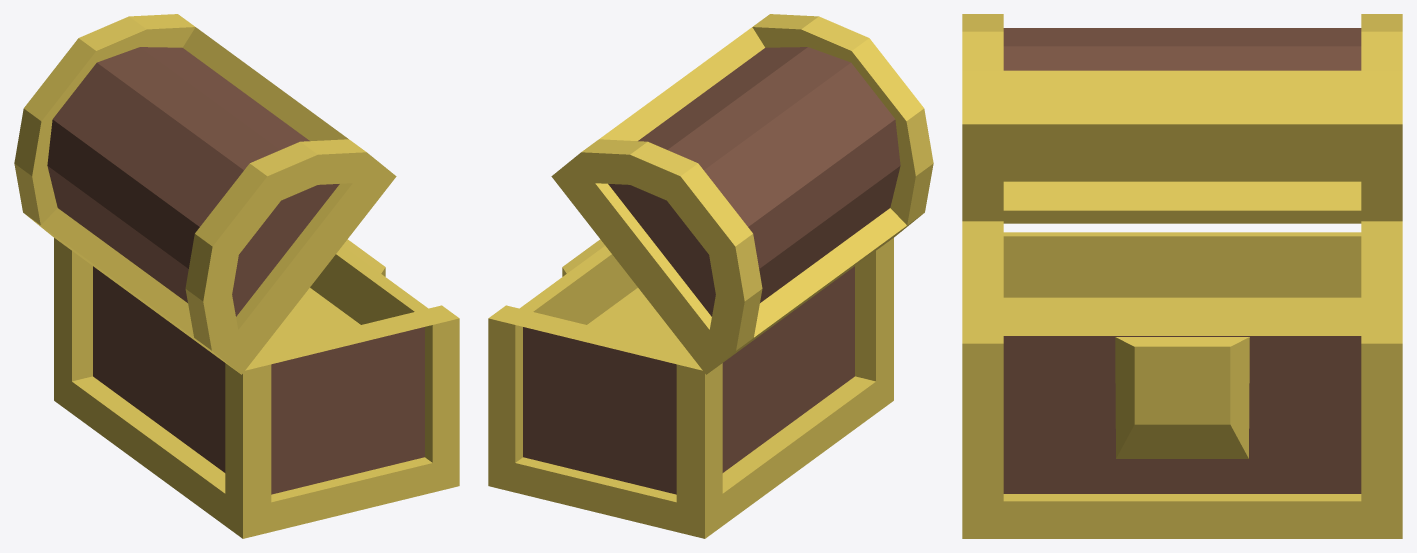
Rendered from COFRETESORO.fbx.
The picture shows the model from 3 angles, left to right: view 1: azimuth 30°, elevation 25°; view 2: azimuth 150°, elevation 25°; view 3: azimuth 270°, elevation 25°; orthographic projection. The views are drawn at different scales.
Visible parts, largest first — view 1: Cube.001, Cube; view 2: Cube.001, Cube; view 3: Cube, Cube.001.
Boxes of the visible parts, x1=… form: Cube.001: x1=14, y1=14, x2=396, y2=374; Cube: x1=54, y1=238, x2=459, y2=538; Cube.001: x1=551, y1=14, x2=933, y2=374; Cube: x1=488, y1=238, x2=893, y2=538; Cube: x1=962, y1=221, x2=1402, y2=538; Cube.001: x1=962, y1=14, x2=1402, y2=223.
Size of the model in its own units: 235 by 321 by 300.
